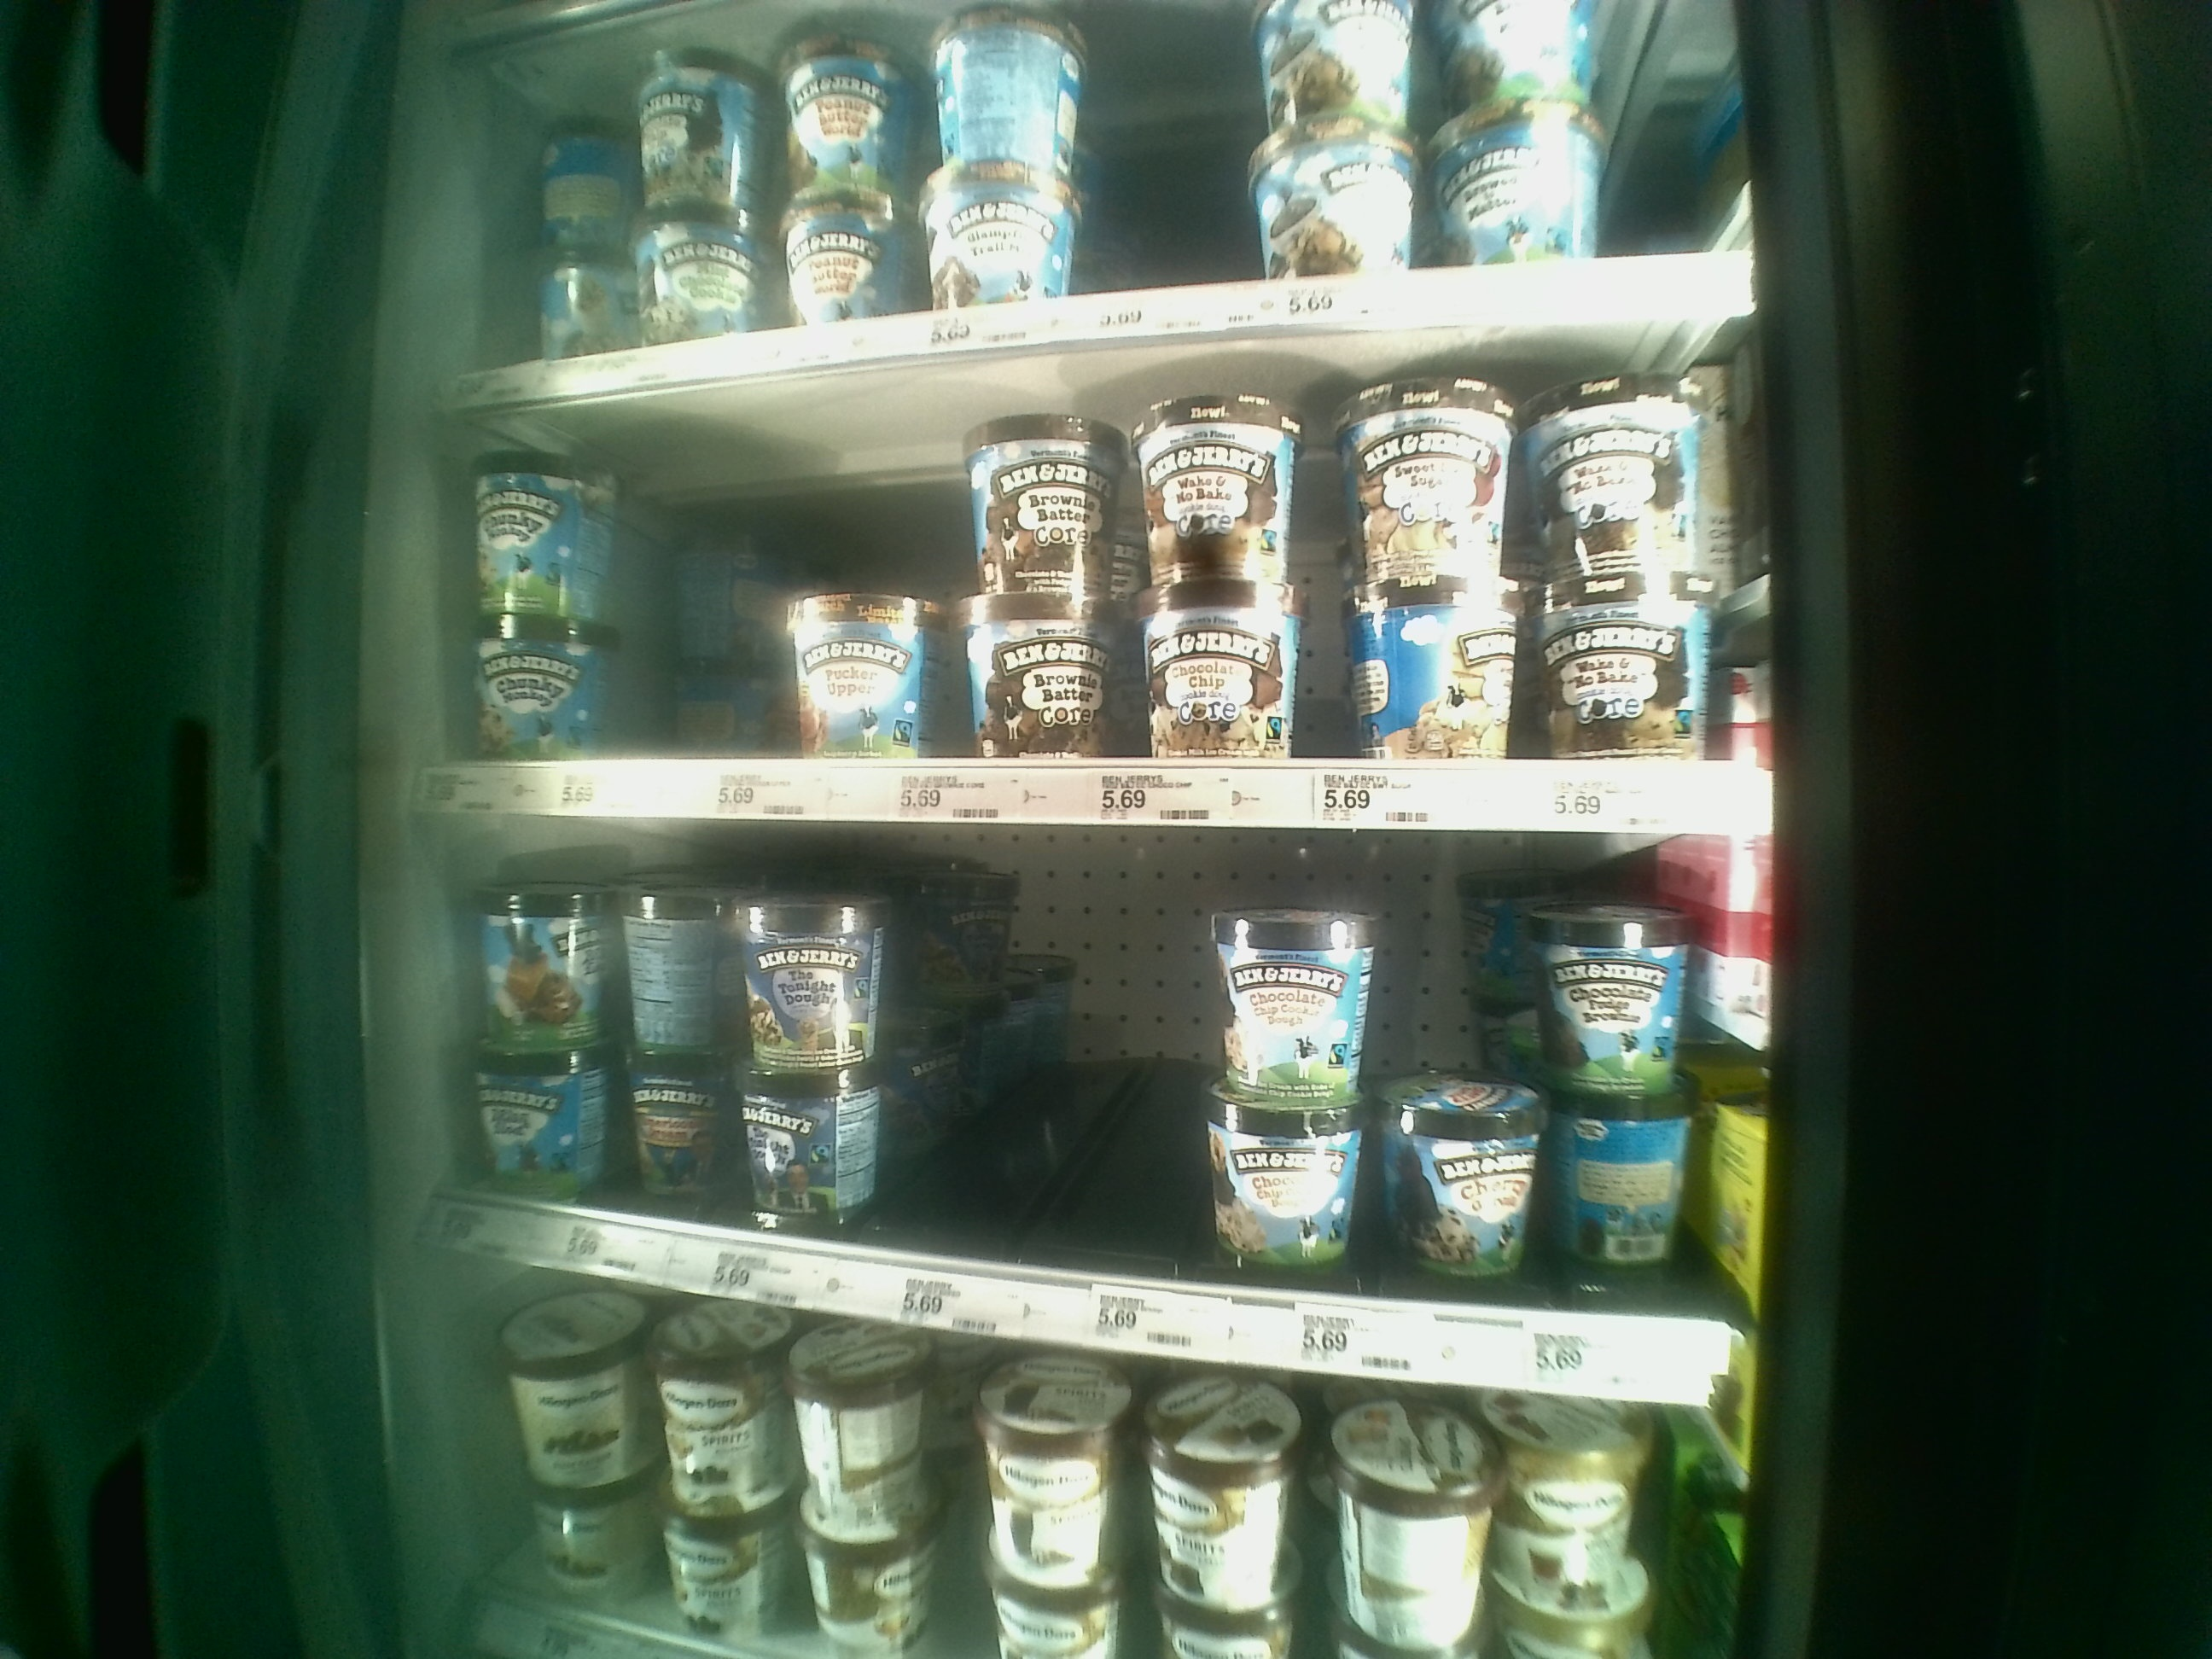ice-cream-shelf: (425, 824, 1754, 1405), (425, 347, 1777, 817)
